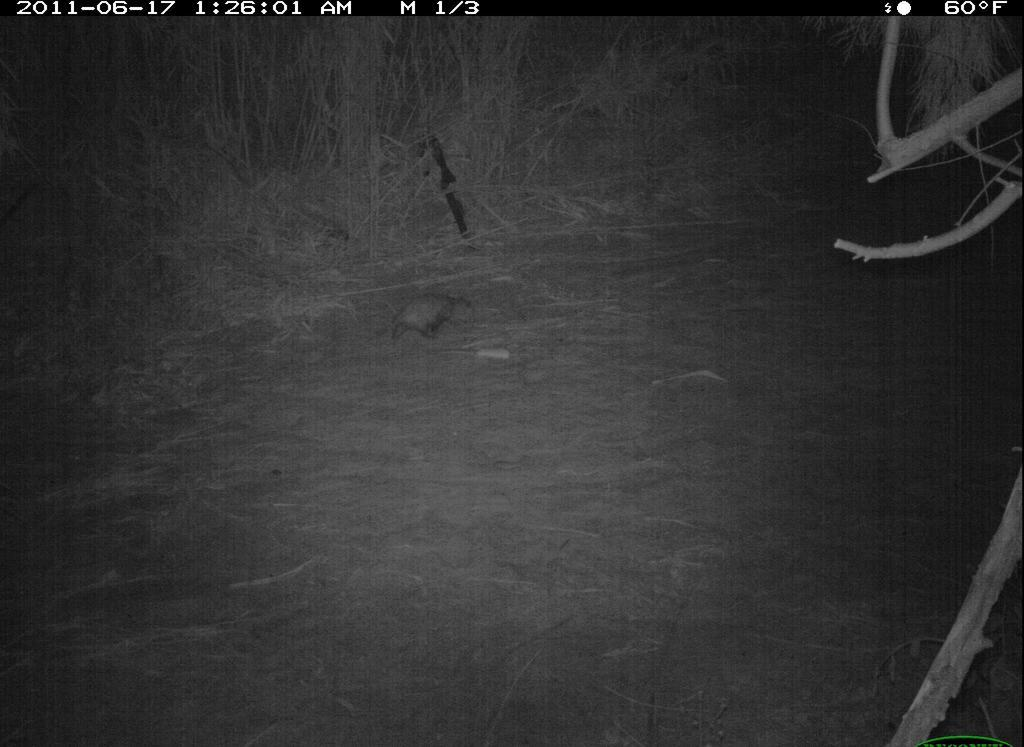opossum: (382, 286, 492, 354)
